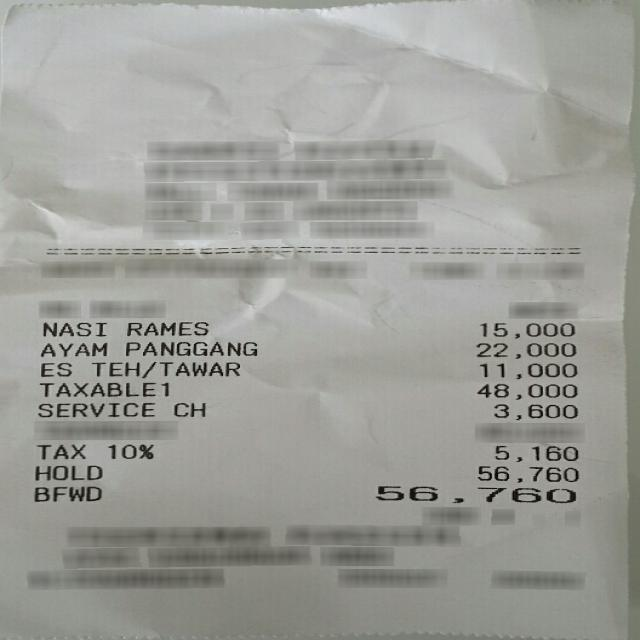text: (373, 485, 574, 503), (91, 361, 237, 377), (38, 381, 166, 396), (124, 341, 253, 355), (35, 401, 152, 416), (476, 464, 577, 480), (475, 342, 575, 358), (478, 362, 574, 378), (479, 322, 573, 338), (476, 383, 574, 398), (494, 444, 574, 462), (492, 403, 575, 418), (126, 321, 206, 334), (34, 463, 99, 479), (33, 486, 99, 500), (39, 341, 104, 355), (41, 322, 103, 335), (34, 443, 82, 458), (106, 444, 150, 457), (173, 402, 204, 416), (39, 362, 69, 376)
